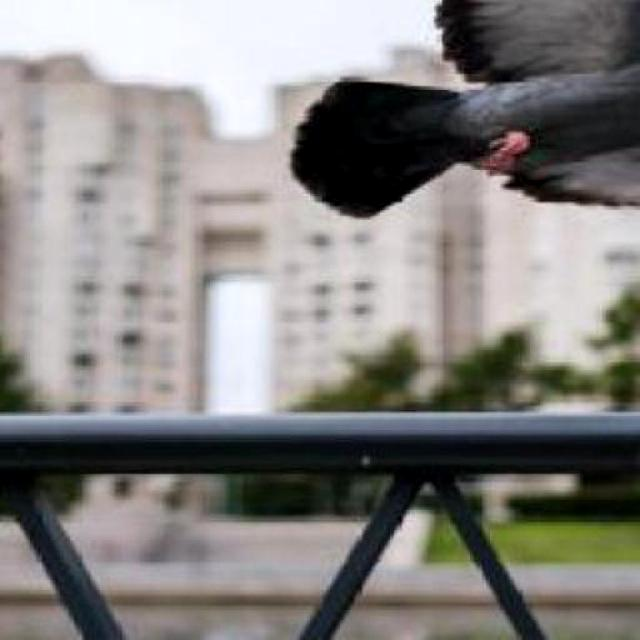airplane: (289, 0, 640, 239)
